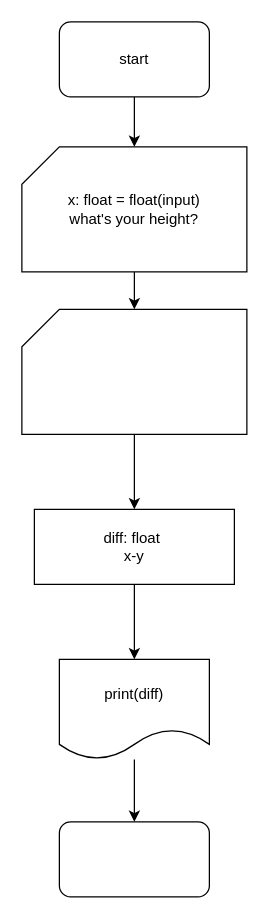
The diagram is 269 pixels wide and 919 high, and some of its shapes have lost their labels. The shapes that lost their labels are listed below. From the top down, each one's centre as x and y in pixels, then its label:
At (x=134, y=371): "y: float = float(input) what's your brother's height?".
At (x=133, y=859): "end".
